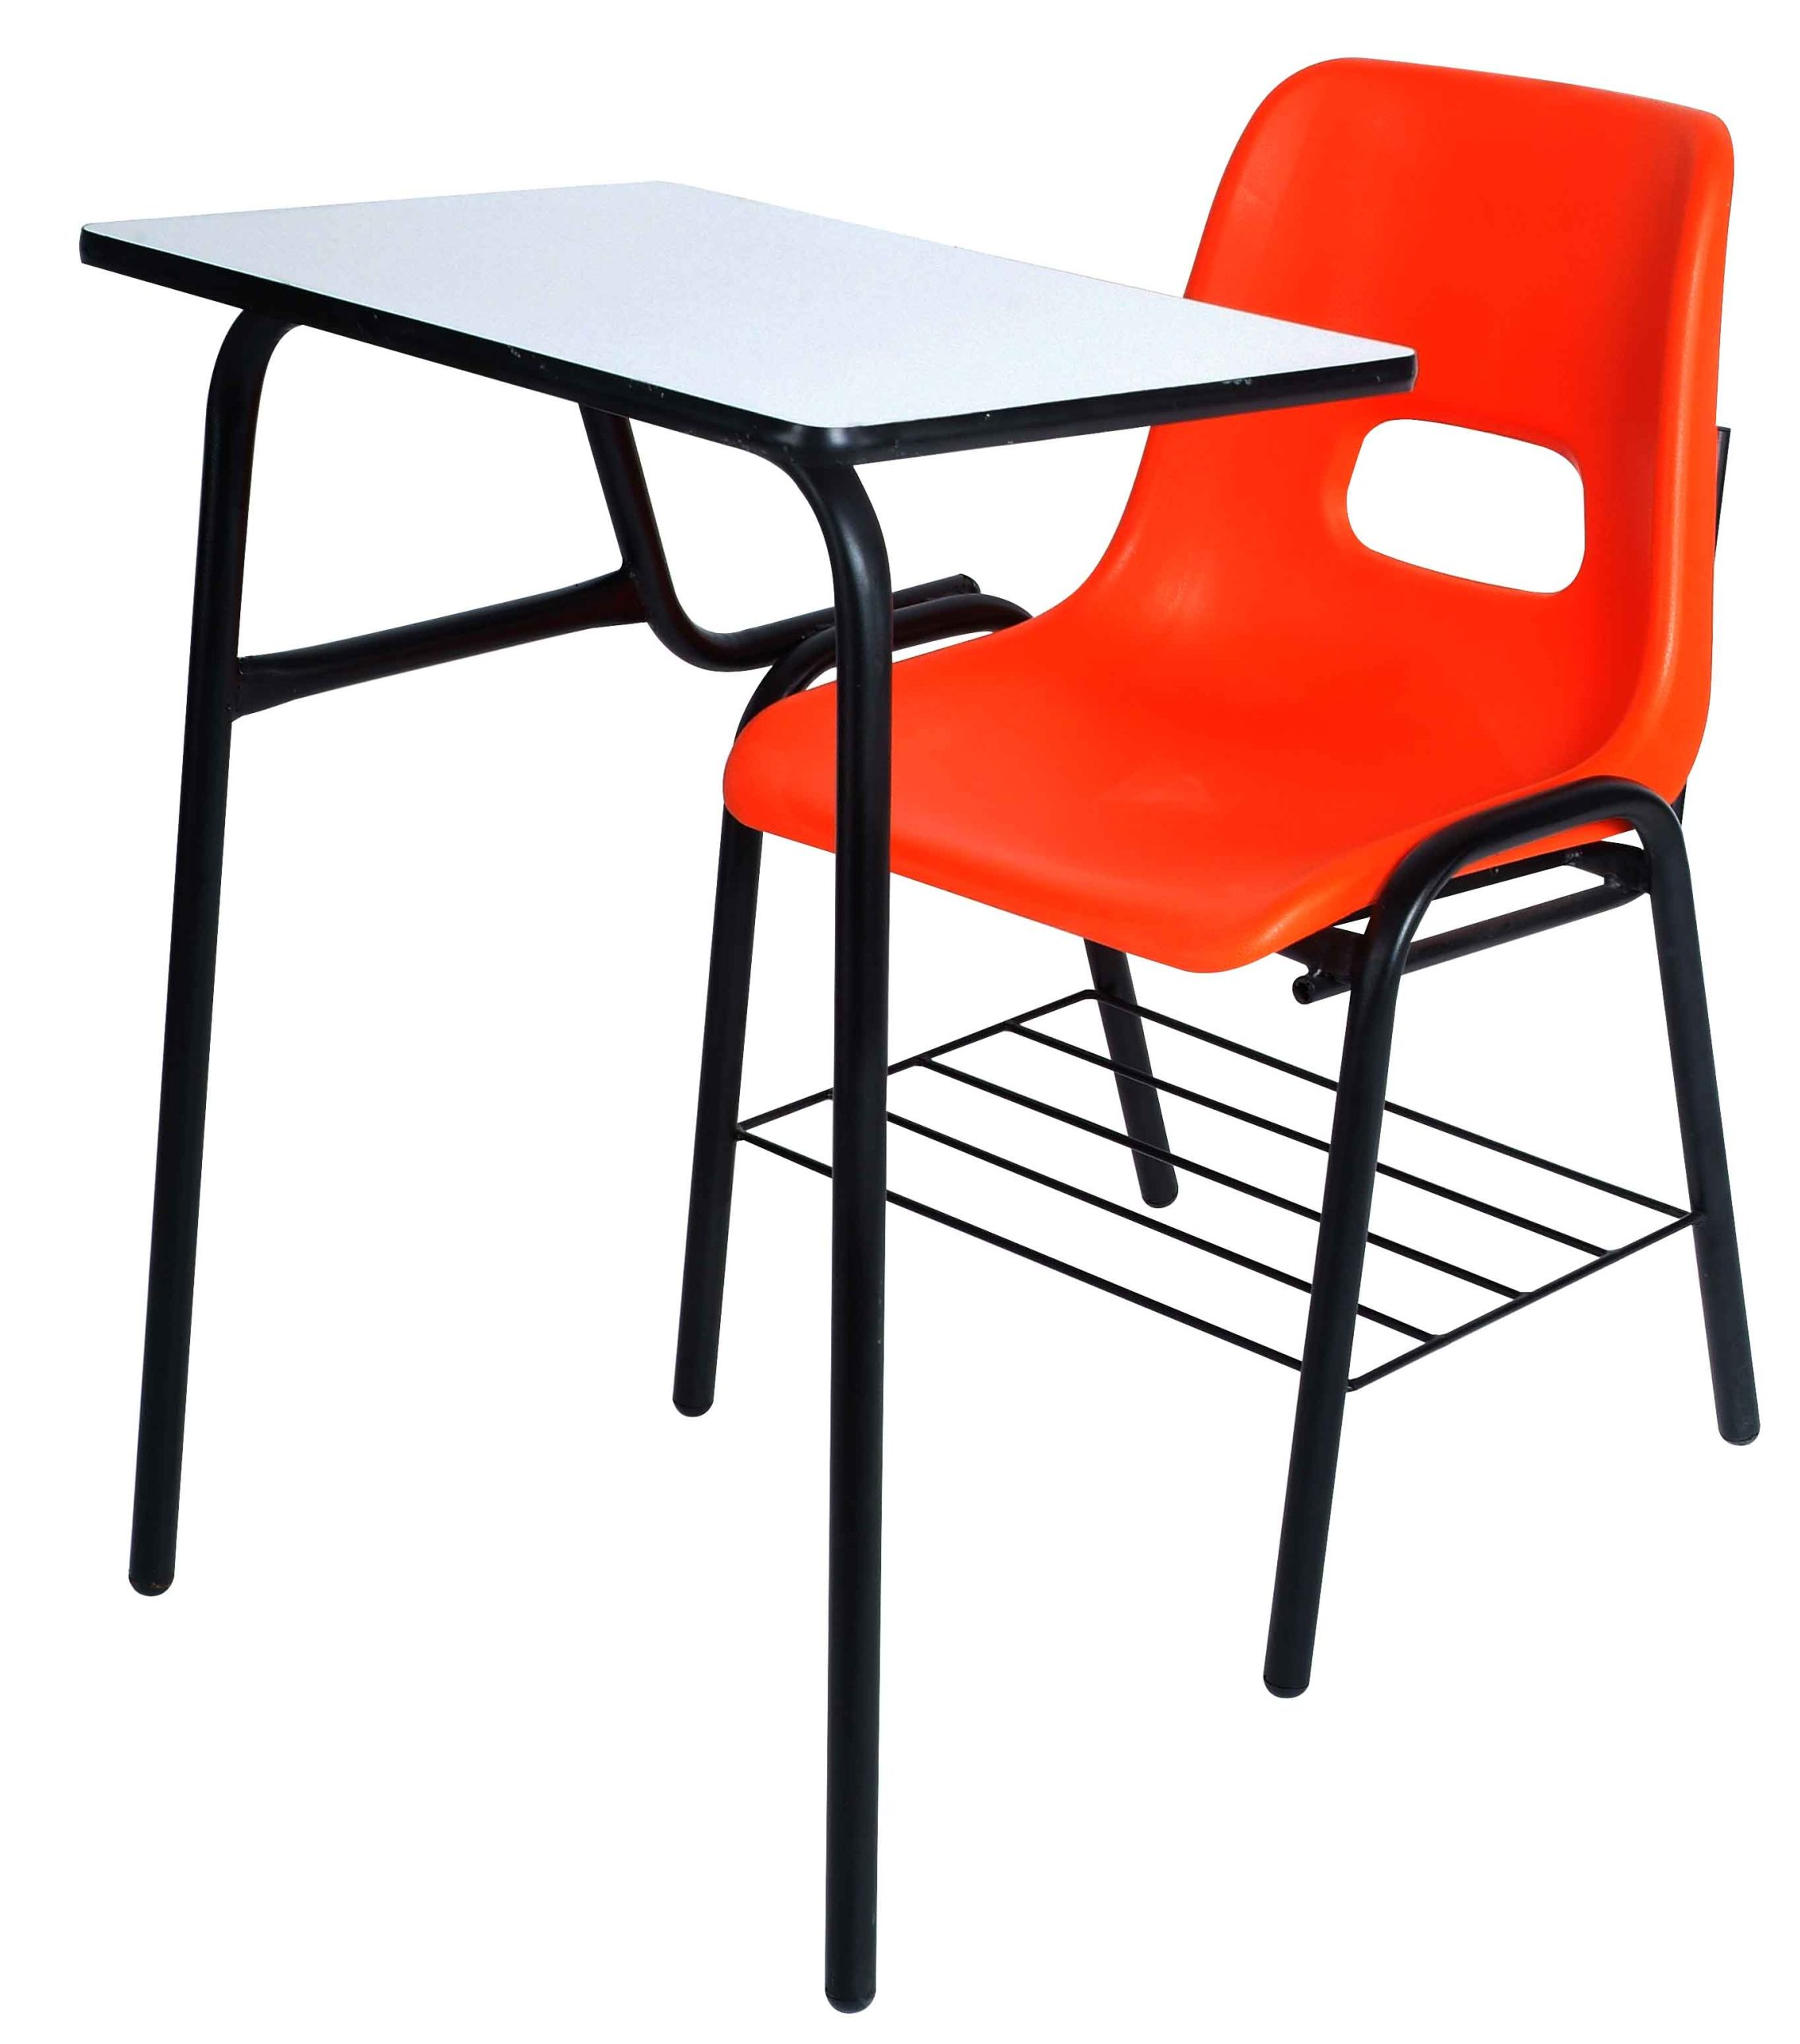m01: (82, 59, 1758, 2011)
